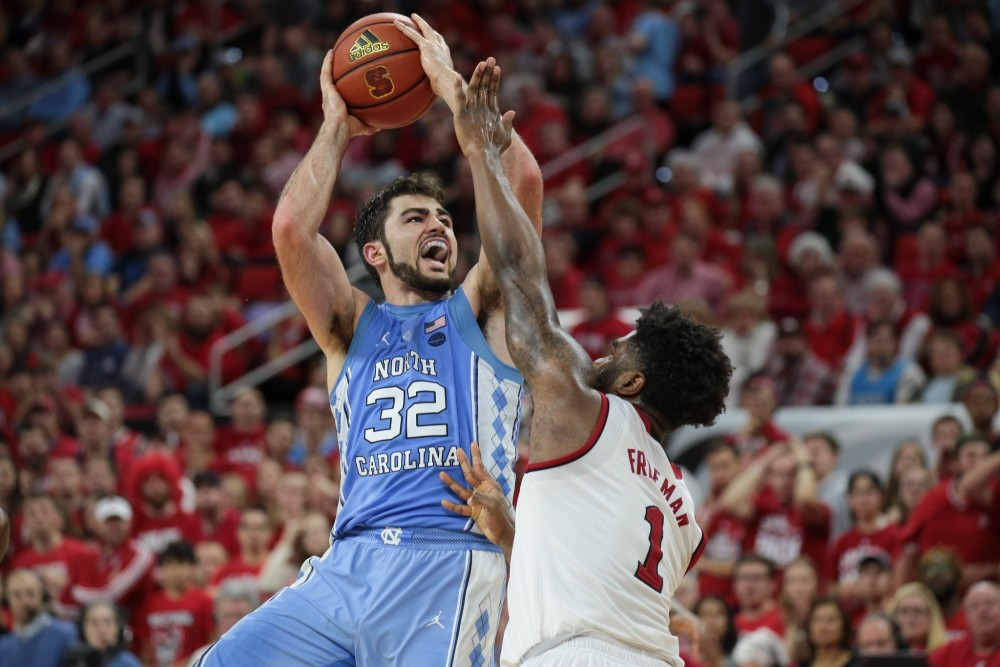ball: (313, 4, 453, 136)
defense: (459, 37, 736, 661)
shoot: (240, 3, 526, 667)
